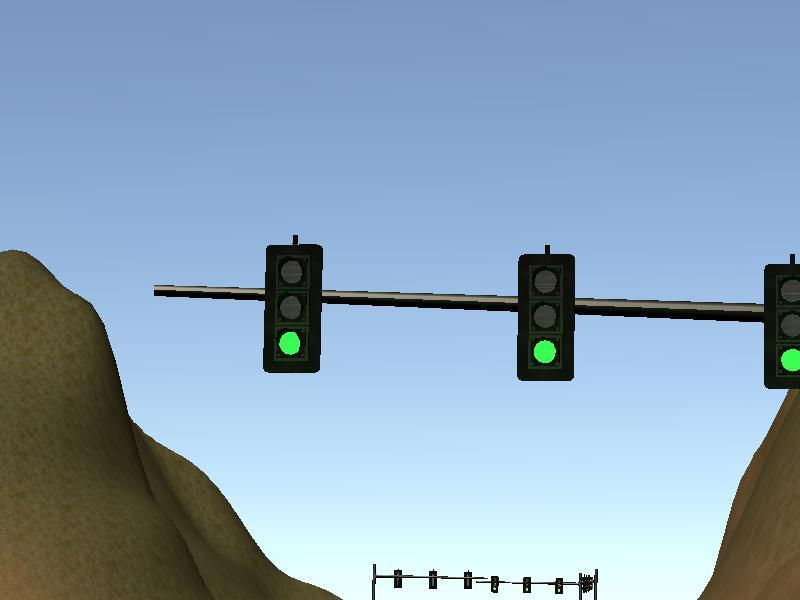Green: (264, 245, 322, 373), (516, 254, 574, 382), (764, 264, 800, 388), (490, 574, 501, 595), (554, 576, 564, 596), (523, 575, 532, 594)
